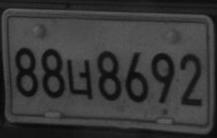2: (178, 52, 203, 106)
6: (124, 51, 149, 103)
8: (96, 49, 123, 102), (40, 47, 66, 99), (13, 46, 38, 98)
9: (149, 51, 176, 102)
너: (66, 59, 93, 100)
